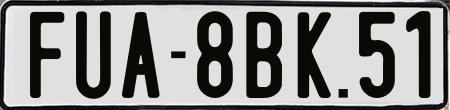1: (405, 8, 431, 95)
5: (357, 11, 398, 101)
8: (196, 9, 235, 96)
A: (120, 10, 162, 99)
B: (246, 10, 287, 96)
F: (29, 11, 65, 98)
K: (296, 9, 335, 99)
U: (75, 9, 113, 97)
